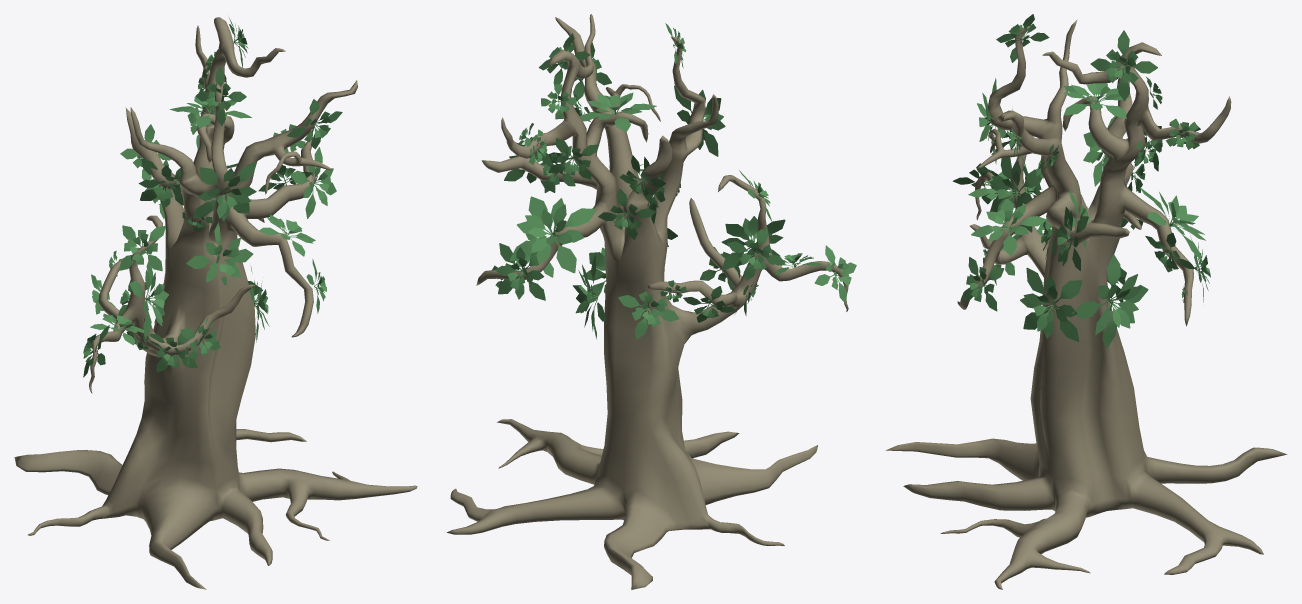
The model's file is SM_Trees.fbx.
3 views of the same model, side by side, from view 1: azimuth 30°, elevation 25°; view 2: azimuth 150°, elevation 25°; view 3: azimuth 270°, elevation 25° (orthographic). The views are drawn at different scales.
Visible parts, largest first — view 1: TreeClean_LOD0; view 2: TreeClean_LOD0; view 3: TreeClean_LOD0.
Boxes of the visible parts, left/top/right/bottom form: TreeClean_LOD0: left=14, top=17, right=417, bottom=589; TreeClean_LOD0: left=447, top=14, right=856, bottom=589; TreeClean_LOD0: left=885, top=14, right=1287, bottom=589.
Size of what is drawn, in the model's own units: 462 by 607 by 445.
